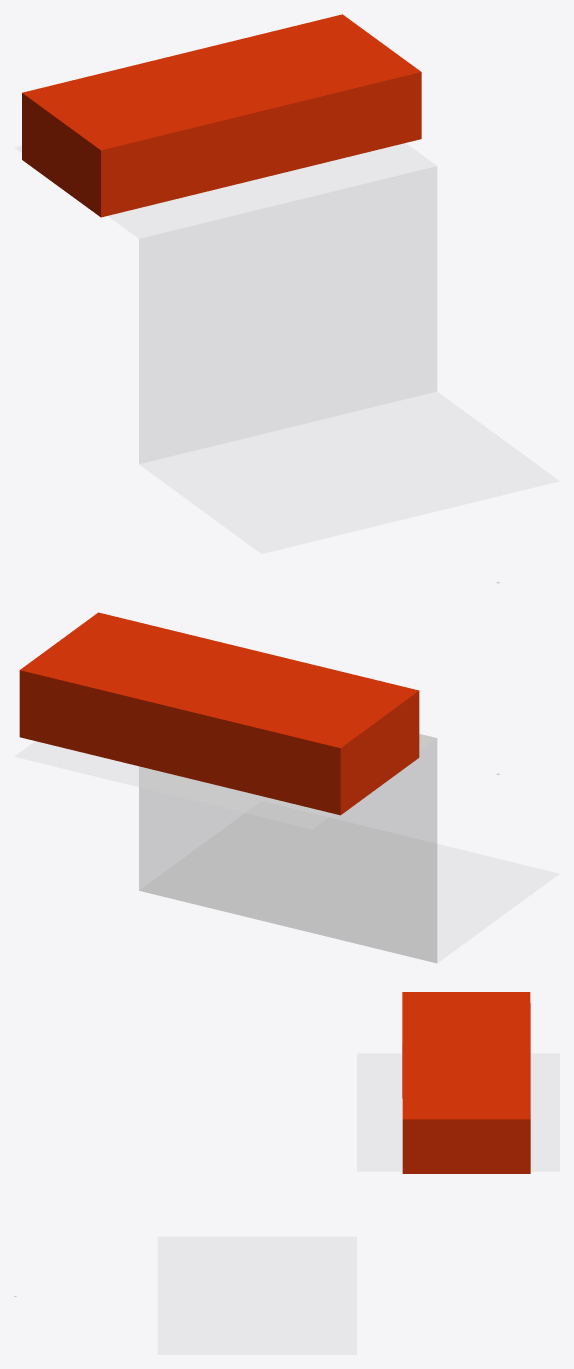
3 renders of one model, top to bottom at view 1: azimuth 30°, elevation 25°; view 2: azimuth 150°, elevation 25°; view 3: azimuth 270°, elevation 25°, orthographic. The views are drawn at different scales.
Parts seen in each view (by area): view 1: Cube, Cube.001; view 2: Cube, Cube.001; view 3: Cube, Cube.001.
Boxes of the visible parts, x1,y1,x2,y2 form: Cube: (14,143,558,553); Cube.001: (22,14,421,217); Cube: (14,734,558,963); Cube.001: (19,612,419,815); Cube: (158,1053,559,1354); Cube.001: (402,992,530,1173).
Size of the model in its own units: 2.15 by 1.9 by 3.9.
